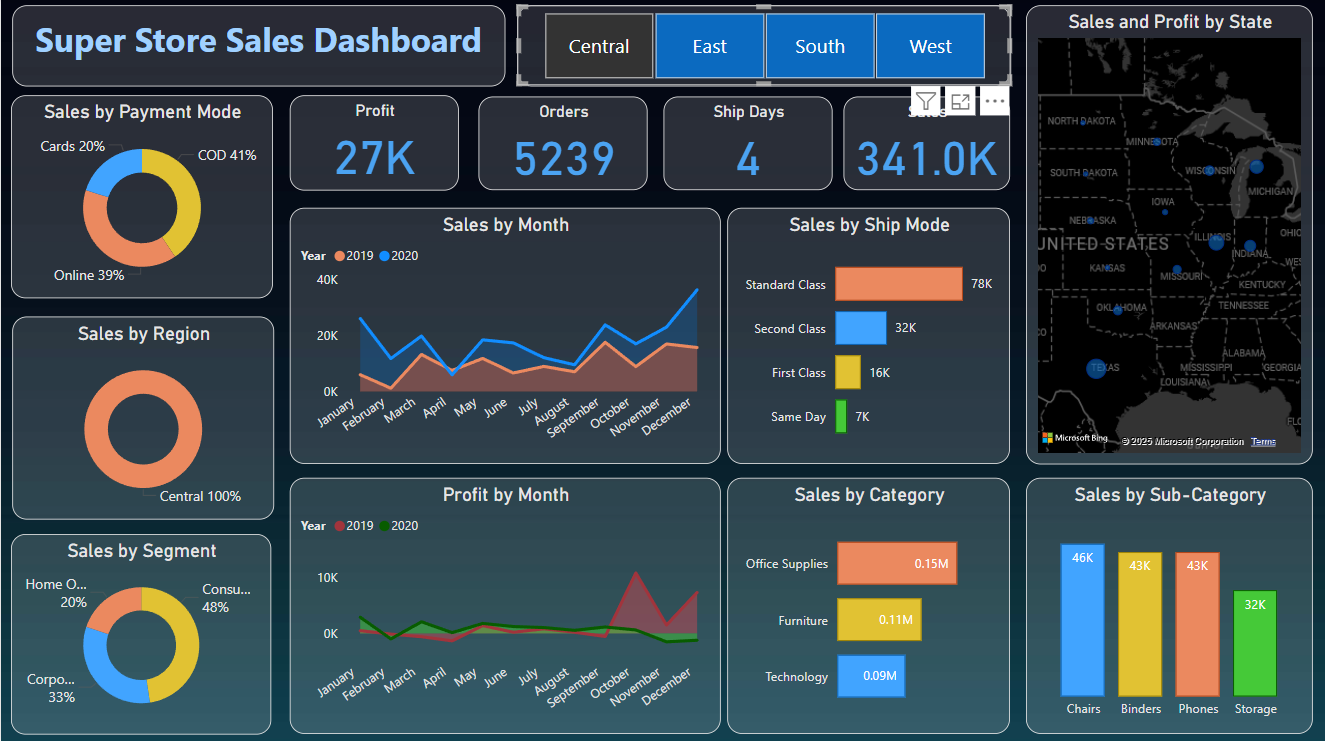

The page's visual inventory and layout, read from the dashboard file:
{"tool":"powerbi","page":{"name":"Page 1","canvas":[1280,720],"ordinal":0},"visuals":[{"type":"clusteredBarChart","title":"Sales by Category","fields":{"Category":["Sheet1.Category"],"Y":["Sum(Sheet1.Sales)"]},"box":[701.2,462.4,273.1,247],"z":0},{"type":"clusteredColumnChart","title":"Sales by Sub-Category","fields":{"Category":["Sheet1.Sub-Category"],"Y":["Sum(Sheet1.Sales)"]},"box":[989.4,462.4,277.2,247],"z":1000},{"type":"clusteredBarChart","title":"Sales by Ship Mode","fields":{"Category":["Sheet1.Ship Mode"],"Y":["Sum(Sheet1.Sales)"]},"box":[701.2,201.7,273.1,247],"z":2000},{"type":"areaChart","title":"Sales by Month","fields":{"Series":["Sheet1.Order Date.Variation.Date Hierarchy.Year"],"Category":["Sheet1.Order Date.Variation.Date Hierarchy.Month","Sheet1.Order Date.Variation.Date Hierarchy.Day"],"Y":["Sum(Sheet1.Sales)"]},"box":[278.6,201.7,415.8,247],"z":3000},{"type":"areaChart","title":"Profit by Month ","fields":{"Category":["Sheet1.Order Date.Variation.Date Hierarchy.Month","Sheet1.Order Date.Variation.Date Hierarchy.Day"],"Y":["Sum(Sheet1.Profit)"],"Series":["Sheet1.Order Date.Variation.Date Hierarchy.Year"]},"box":[278.6,462.4,415.8,247],"z":4000},{"type":"map","title":"Sales and Profit by State","fields":{"Category":["Sheet1.State"],"Size":["Sum(Sheet1.Sales)"]},"box":[989.4,5.5,277.2,443.2],"z":5000},{"type":"donutChart","title":"Sales by Segment","fields":{"Category":["Sheet1.Segment"],"Y":["Sum(Sheet1.Sales)"]},"box":[9.6,516,251.1,193.5],"z":6000},{"type":"donutChart","title":"Sales by Payment Mode","fields":{"Category":["Sheet1.Payment Mode"],"Y":["Sum(Sheet1.Sales)"]},"box":[9.6,93.3,252.5,196.2],"z":7000},{"type":"donutChart","title":"Sales by Region","fields":{"Category":["Sheet1.Region"],"Y":["Sum(Sheet1.Sales)"]},"box":[11,306,252.5,196.2],"z":8000},{"type":"slicer","fields":{"Values":["Sheet1.Region"]},"box":[498.1,5.5,476.2,78.2],"z":9000},{"type":"textbox","box":[11,5.5,476.2,78.2],"z":10000},{"type":"card","title":"Sales","fields":{"Values":["Sum(Sheet1.Sales)"]},"box":[813.7,94.7,160.5,90.6],"z":11000},{"type":"card","title":"Orders","fields":{"Values":["Sum(Sheet1.Quantity)"]},"box":[461.1,94.7,163.3,90.6],"z":12000},{"type":"card","title":"Profit","fields":{"Values":["Sum(Sheet1.Profit)"]},"box":[278.6,93.3,163.3,91.9],"z":13000},{"type":"card","title":"Ship Days","fields":{"Values":["Avg(Sheet1.AvgDelivery)"]},"box":[639.5,94.7,163.3,90.6],"z":14000}]}

Visuals, with their boxes in screenshot pixels (x1, y1, x2, y2), scaled from the page's 1280x720 canvas onto the 1325x741 screenshot:
"Sales by Category" clusteredBarChart: [726,476,1009,730]
"Sales by Sub-Category" clusteredColumnChart: [1024,476,1311,730]
"Sales by Ship Mode" clusteredBarChart: [726,208,1009,462]
"Sales by Month" areaChart: [288,208,719,462]
"Profit by Month " areaChart: [288,476,719,730]
"Sales and Profit by State" map: [1024,6,1311,462]
"Sales by Segment" donutChart: [10,531,270,730]
"Sales by Payment Mode" donutChart: [10,96,271,298]
"Sales by Region" donutChart: [11,315,273,517]
slicer - Sheet1.Region: [516,6,1009,86]
textbox: [11,6,504,86]
"Sales" card: [842,97,1008,191]
"Orders" card: [477,97,646,191]
"Profit" card: [288,96,457,191]
"Ship Days" card: [662,97,831,191]
